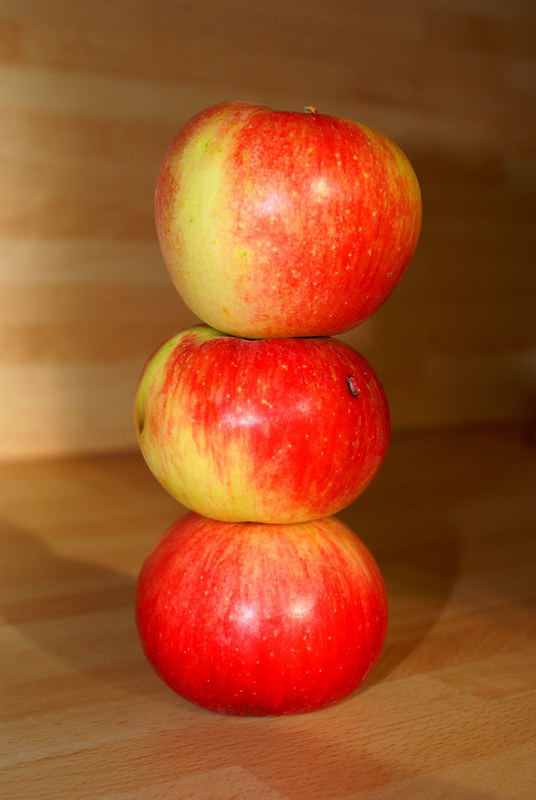apple: (145, 93, 431, 348), (127, 512, 401, 724), (118, 331, 401, 523)
